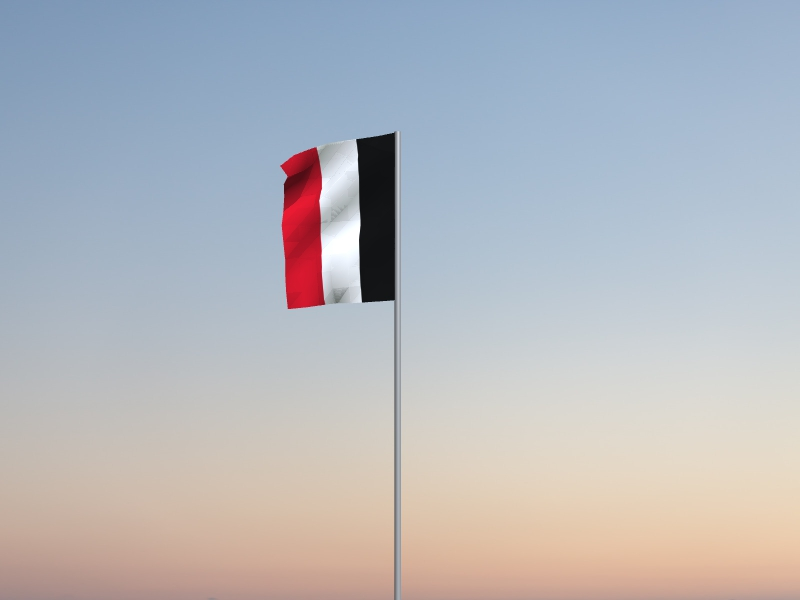ye: (281, 131, 395, 311)
